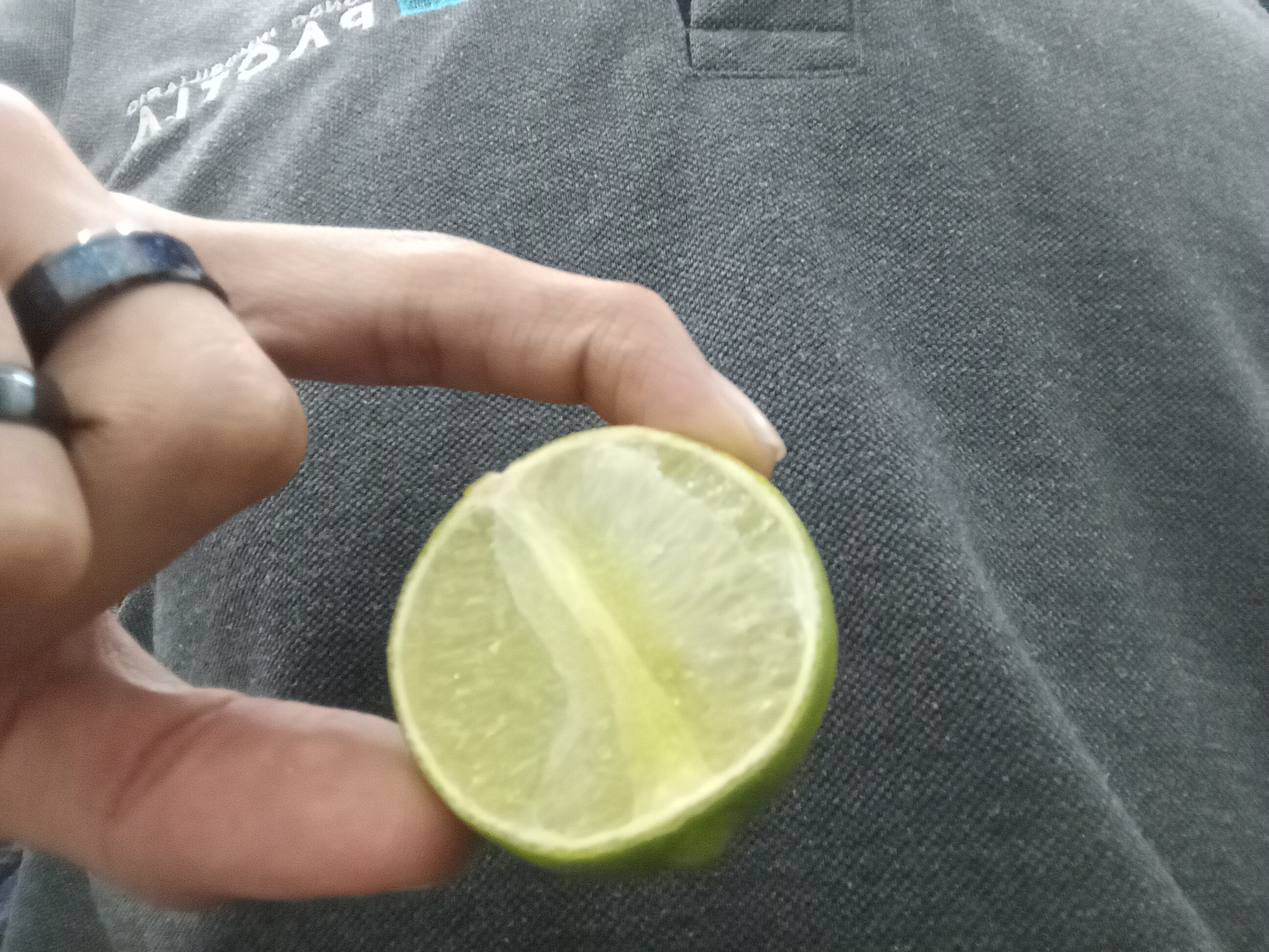Organico: (389, 420, 840, 882)
